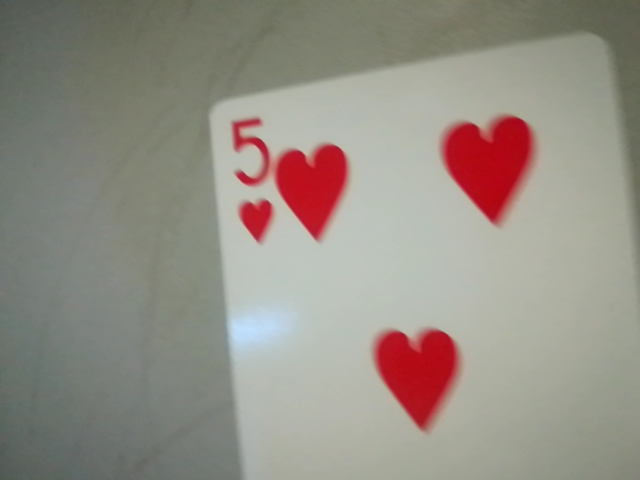hx 5: (215, 110, 280, 248)
